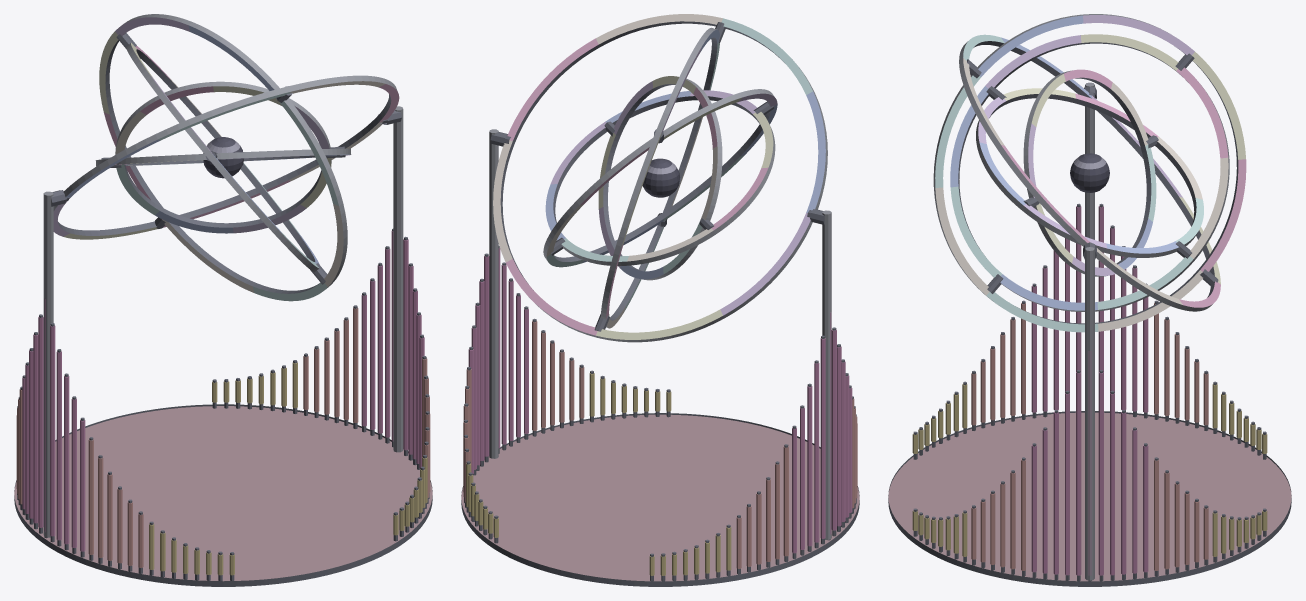
The model's file is event-horizon.glb.
3 renders of one model, left to right at view 1: azimuth 30°, elevation 25°; view 2: azimuth 150°, elevation 25°; view 3: azimuth 270°, elevation 25°, orthographic. The views are drawn at different scales.
Visible parts, largest first — view 1: Light court and mirror, Gimbal 2, Gimbal 1, Gimbal 5, Gimbal 3, Gimbal 4; view 2: Light court and mirror, Gimbal 1, Gimbal 4, Gimbal 5, Gimbal 3, Gimbal 2; view 3: Light court and mirror, Gimbal 2, Gimbal 3, Gimbal 1, Gimbal 4, Gimbal 5.
Part boxes in pixels (bbox=[...]): Light court and mirror: bbox=[14, 106, 432, 586]; Gimbal 2: bbox=[99, 14, 347, 301]; Gimbal 1: bbox=[53, 75, 399, 239]; Gimbal 5: bbox=[101, 81, 345, 233]; Gimbal 3: bbox=[116, 33, 327, 284]; Gimbal 4: bbox=[95, 148, 351, 166]; Light court and mirror: bbox=[461, 129, 859, 586]; Gimbal 1: bbox=[493, 14, 827, 342]; Gimbal 4: bbox=[545, 90, 775, 265]; Gimbal 5: bbox=[598, 76, 722, 280]; Gimbal 3: bbox=[543, 89, 777, 267]; Gimbal 2: bbox=[594, 22, 725, 331]; Light court and mirror: bbox=[888, 82, 1291, 586]; Gimbal 2: bbox=[933, 14, 1246, 332]; Gimbal 3: bbox=[950, 34, 1229, 311]; Gimbal 1: bbox=[959, 34, 1220, 311]; Gimbal 4: bbox=[976, 86, 1203, 258]; Gimbal 5: bbox=[1023, 69, 1158, 276].
Bounding box in the file's own units: 6.84 × 8.8 × 6.84.
